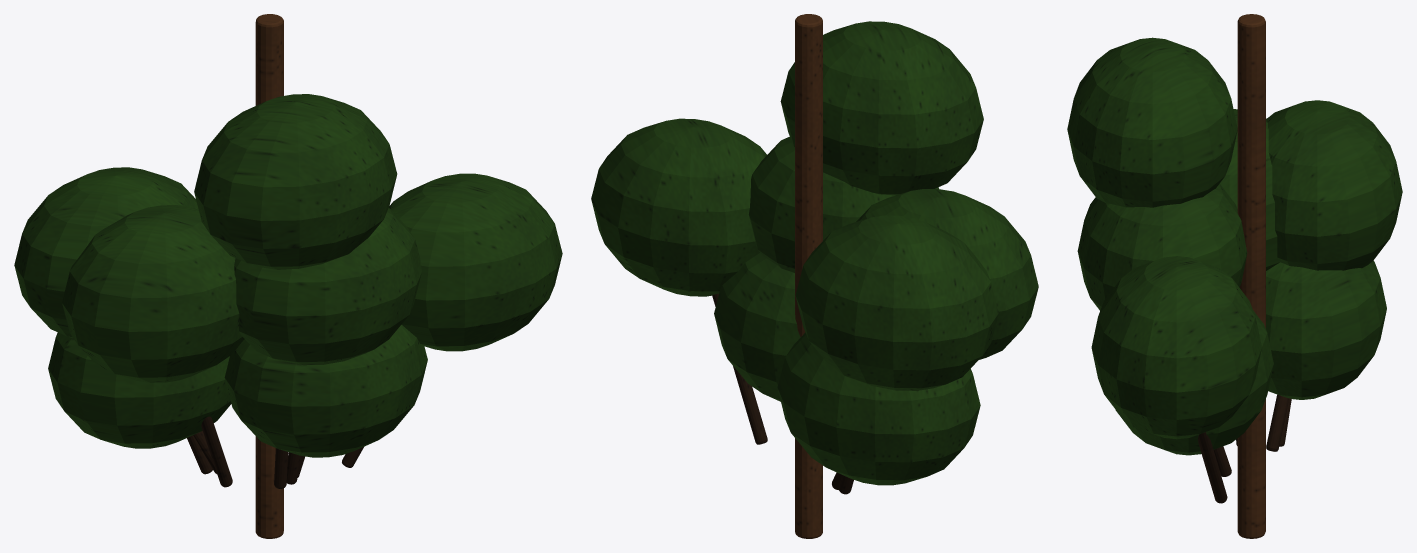
Rendered from PROP-4E5DD56A1882_lod0.glb.
3 views of the same model, side by side, from view 1: azimuth 30°, elevation 25°; view 2: azimuth 150°, elevation 25°; view 3: azimuth 270°, elevation 25° (orthographic).
Visible parts, largest first — view 1: foliage.014, vine_stake, plant_stem.014; view 2: foliage.014, vine_stake, plant_stem.014; view 3: foliage.014, vine_stake, plant_stem.014.
Part boxes in pixels (bbox=[...]): foliage.014: bbox=[14, 94, 562, 457]; vine_stake: bbox=[255, 14, 283, 538]; plant_stem.014: bbox=[187, 416, 363, 488]; foliage.014: bbox=[591, 21, 1038, 485]; vine_stake: bbox=[795, 14, 822, 538]; plant_stem.014: bbox=[712, 293, 853, 494]; foliage.014: bbox=[1067, 37, 1402, 455]; vine_stake: bbox=[1237, 14, 1265, 538]; plant_stem.014: bbox=[1198, 394, 1291, 503].
Bounding box in the file's own units: 1.49 × 1.6 × 0.9441.
3 materials, 3 textured.
